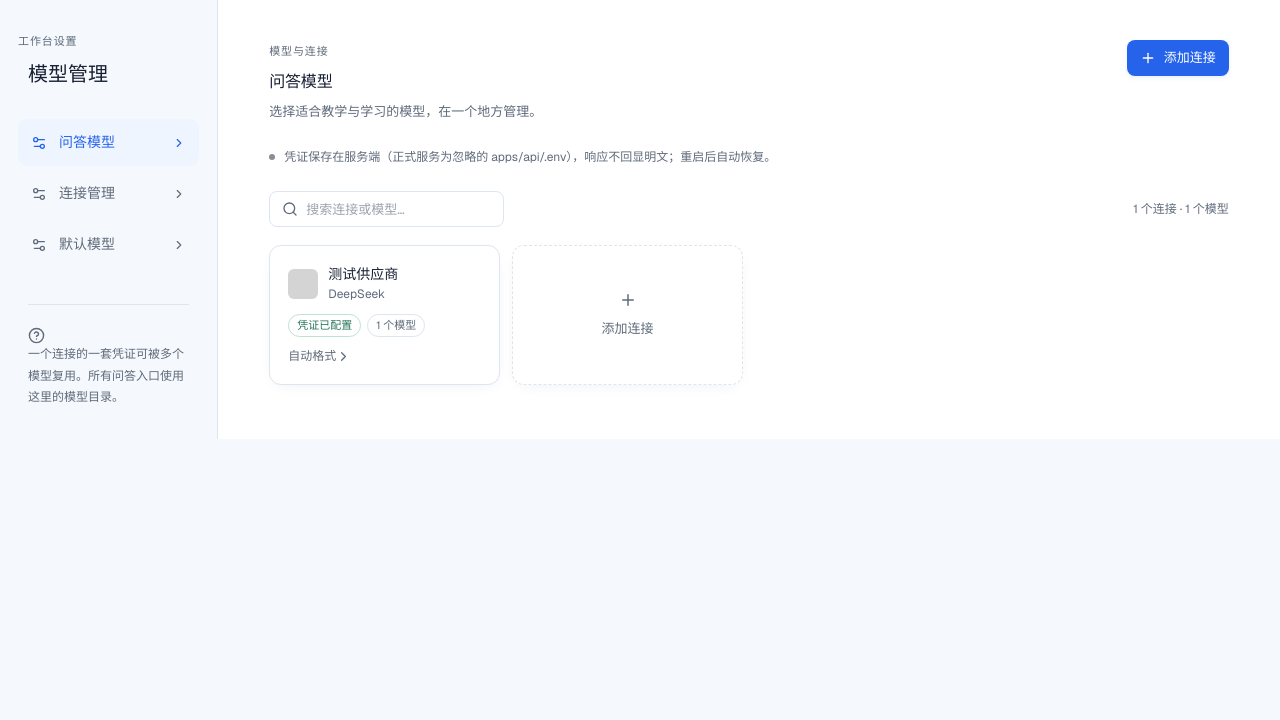
Test: 模型管理 › 模型卡片显示上下文并提供单模型自动获取按钮
Click the button with aria-label "打开 测试供应商 的详情". click: (385, 315)
box: [269,245,500,385]
(page scrolled)
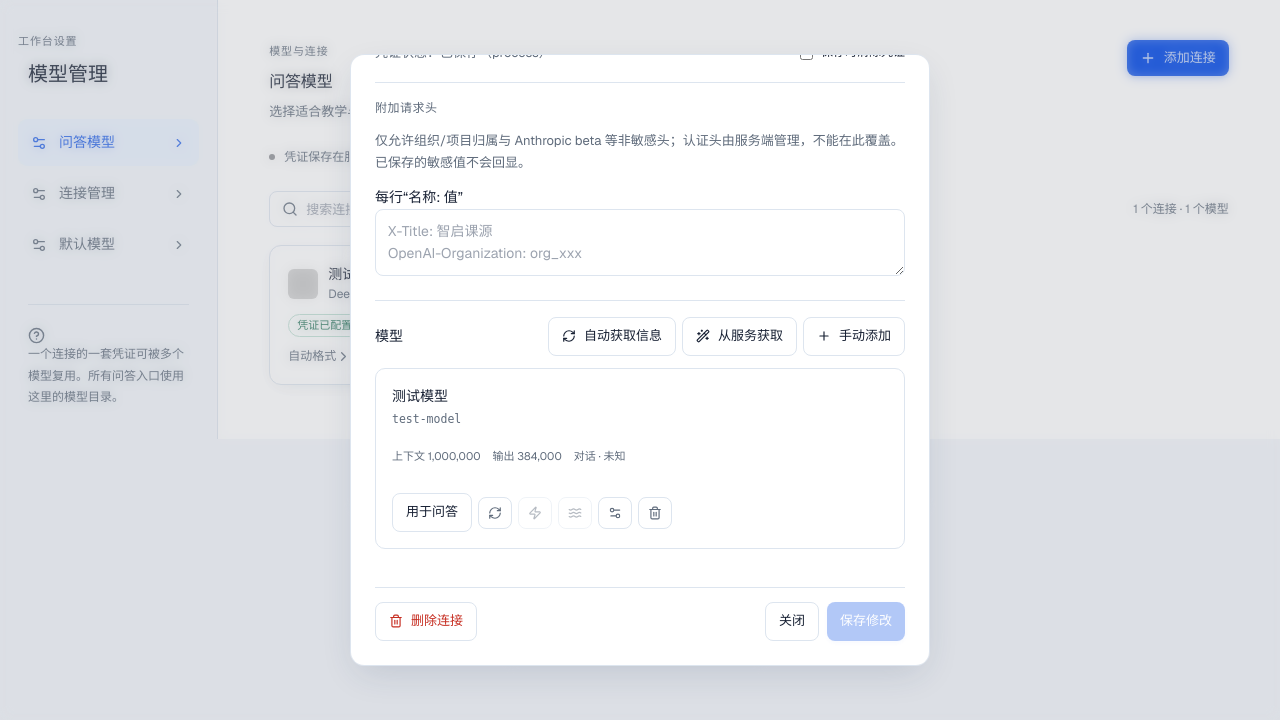
Expected: the text "上下文 1,000,000" is shown, [392,448,481,465]
Click the button named "自动获取模型信息 测试模型". click: (495, 513)
box: [478,497,512,529]
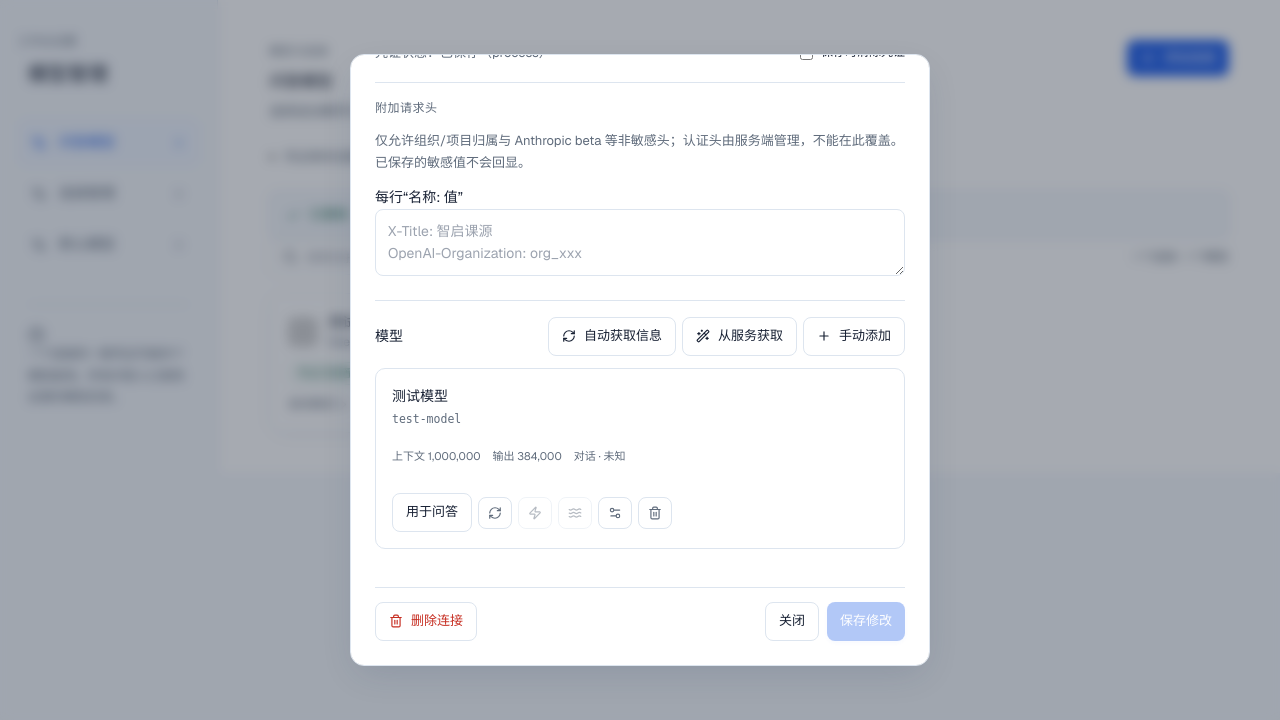
Expected: the text "已更新：上下文 128,000 → 1,000,000（models.dev）。" is shown, [269,191,1229,239]
